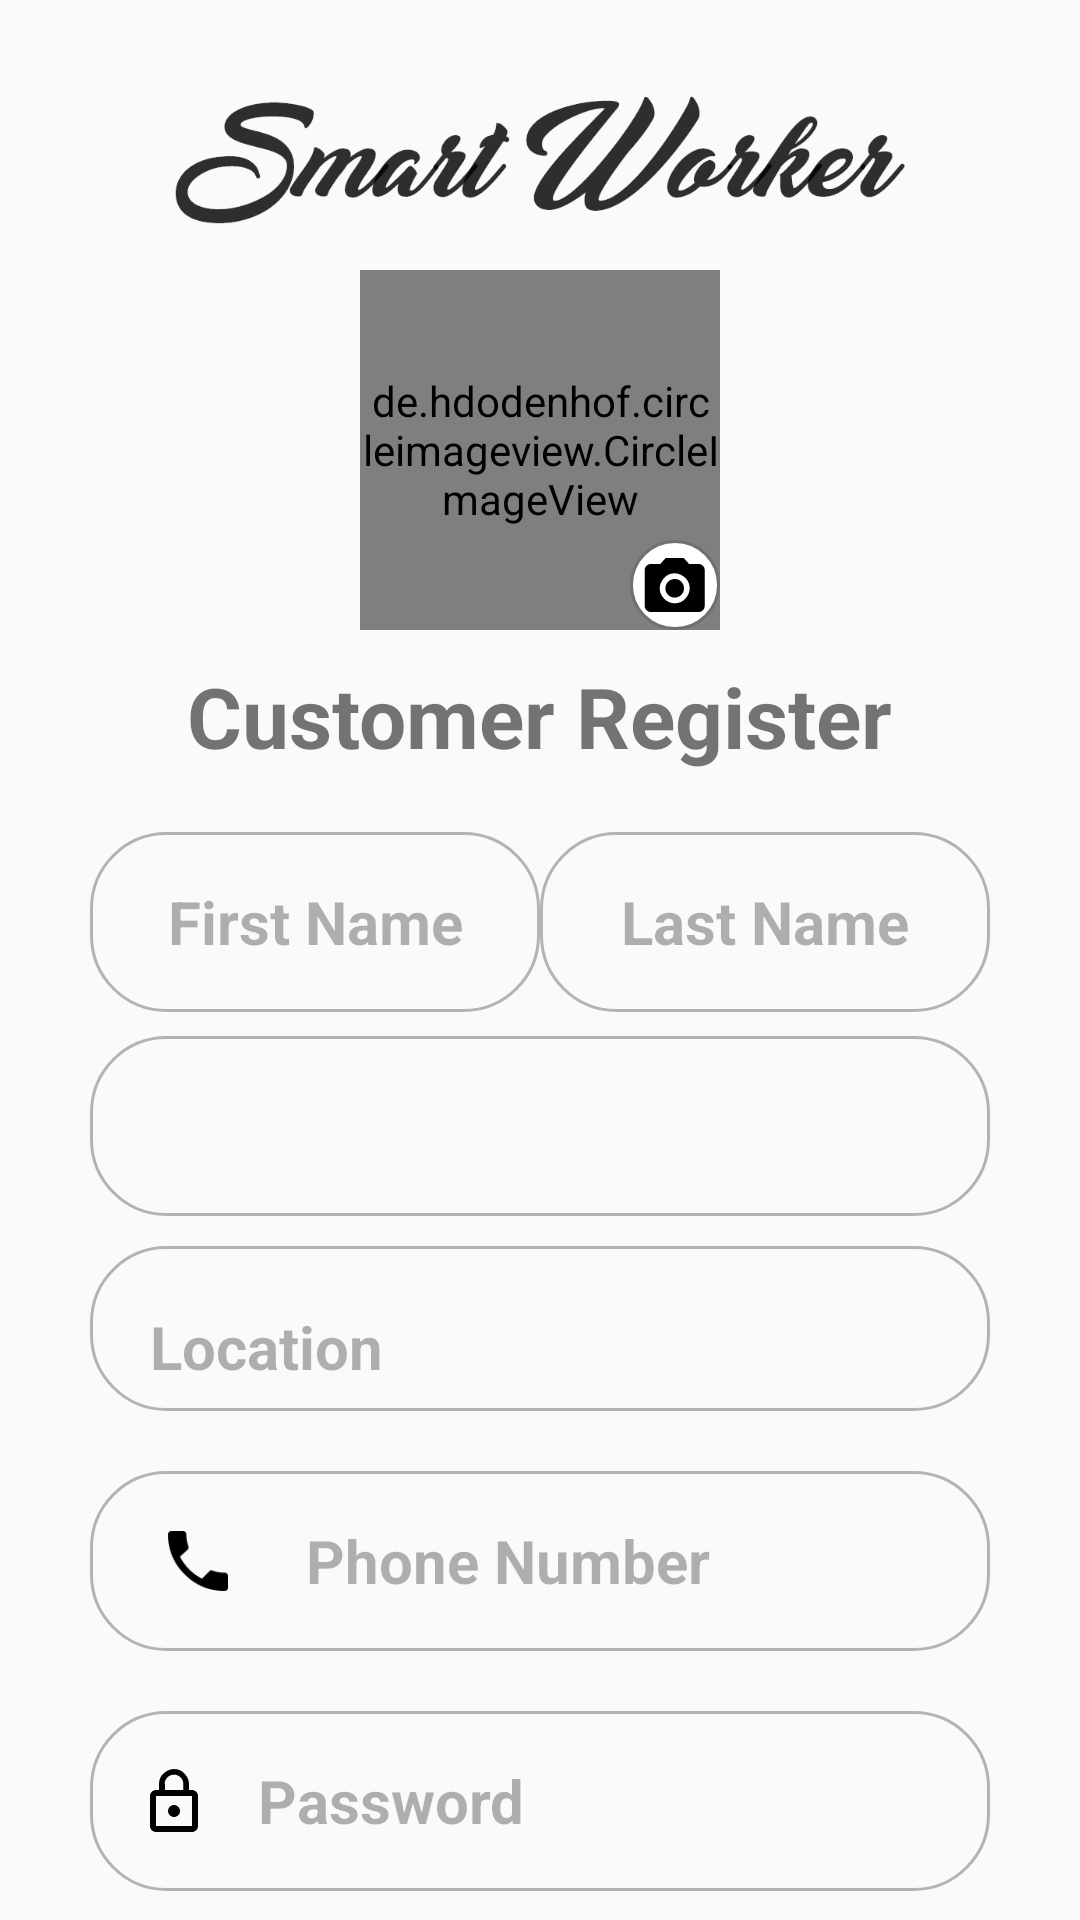

Where icons sit on this 1080*1920 app screen, as box=[x1, y1, x2, y2]:
photo: box=[633, 543, 717, 627]
